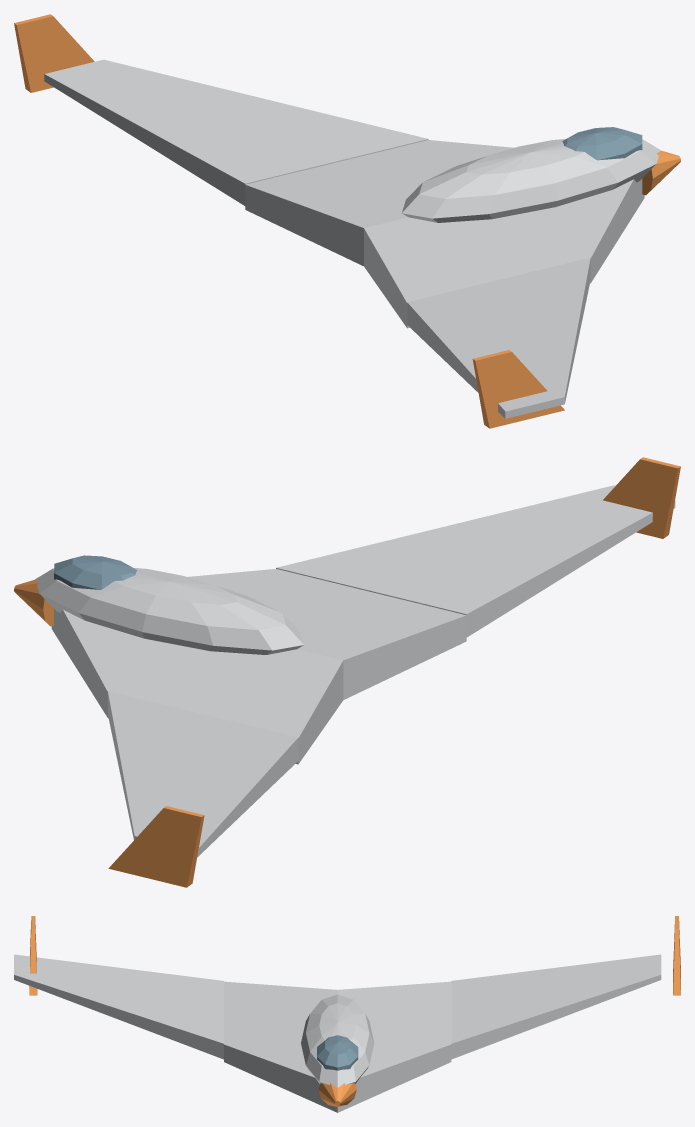
File: flying-wing.glb
3 renders of one model, top to bottom at view 1: azimuth 30°, elevation 25°; view 2: azimuth 150°, elevation 25°; view 3: azimuth 270°, elevation 25°, orthographic. The views are drawn at different scales.
Size of the model in its own units: 3.91 by 0.81 by 7.62.
